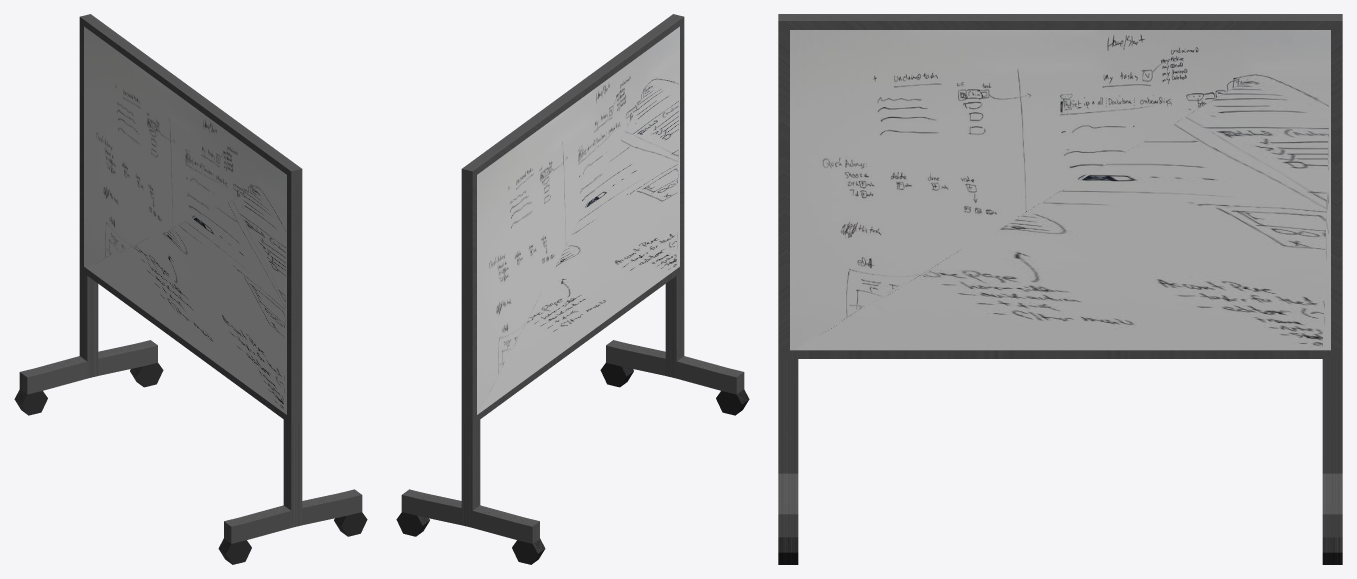
File: whiteboardProp.fbx
3 views of the same model, side by side, from view 1: azimuth 30°, elevation 25°; view 2: azimuth 150°, elevation 25°; view 3: azimuth 270°, elevation 25° (orthographic). The views are drawn at different scales.
Parts seen in each view (by area): view 1: Box001; view 2: Box001; view 3: Box001.
Part boxes in pixels (x1,y1,x2,y2): Box001: (14,14,367,564); Box001: (396,14,749,564); Box001: (778,14,1342,564).
Size of the model in its own units: 26.63 by 68.17 by 68.93.
Materials: 3 (3 with a texture image).
